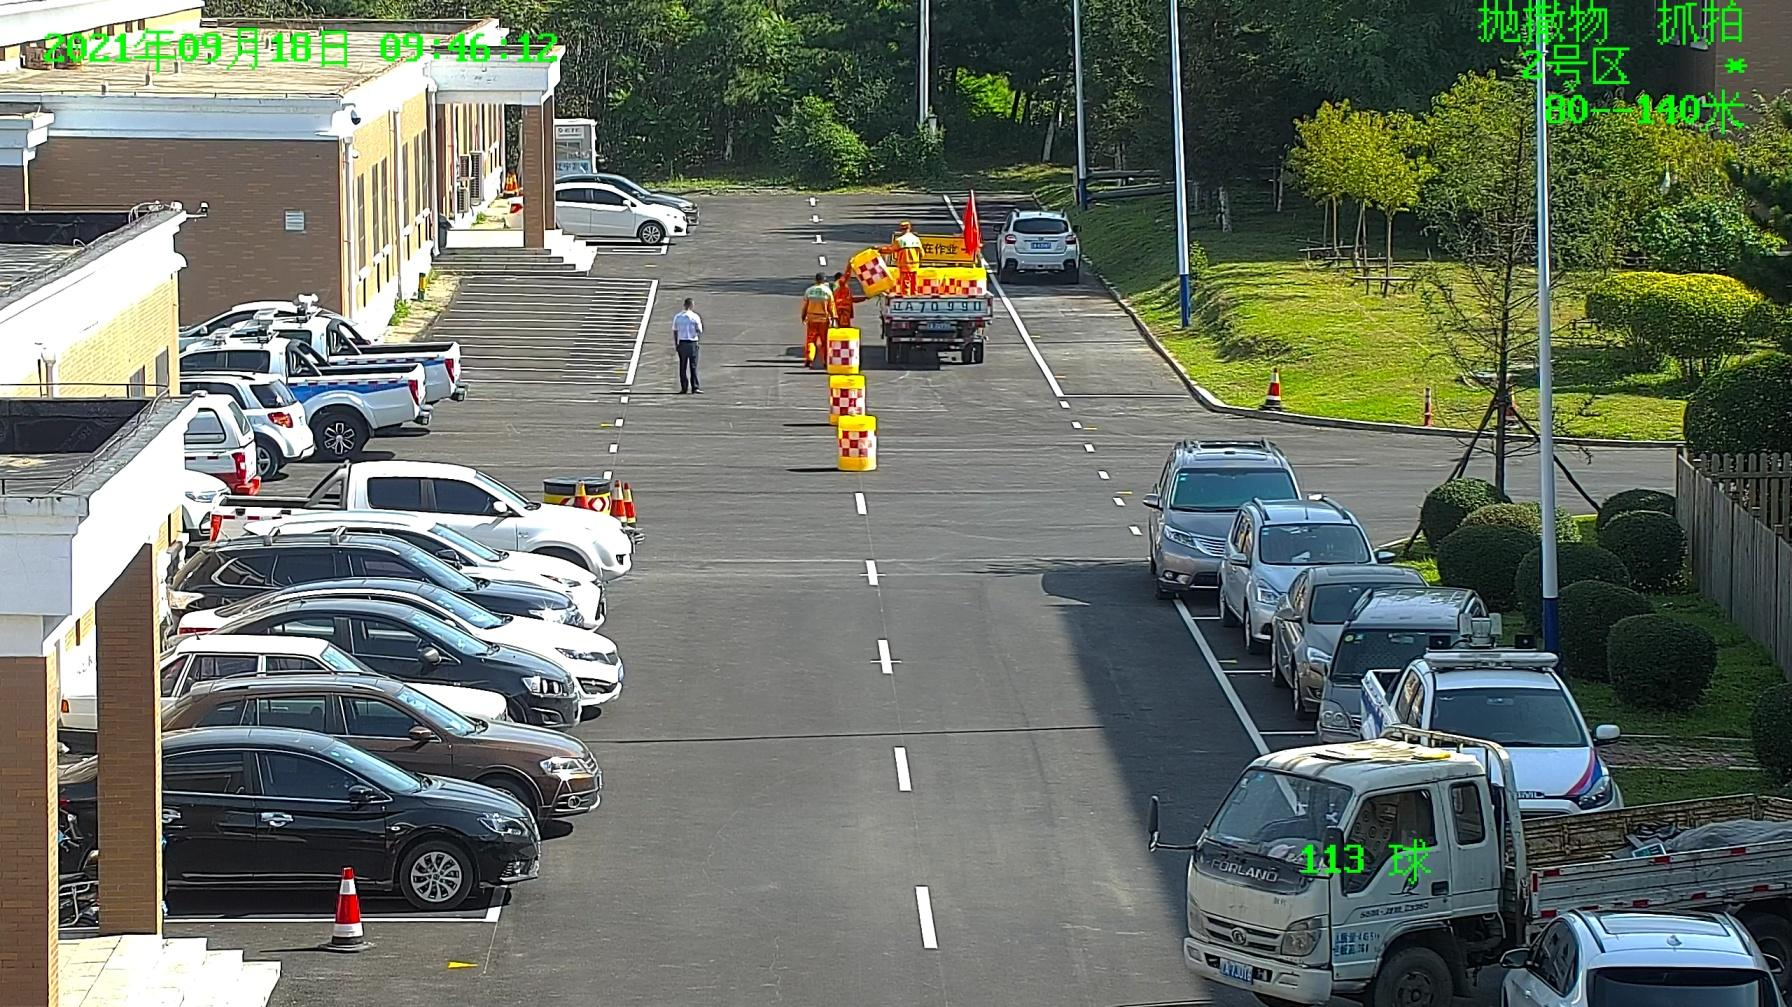cone_barrel: (847, 247, 896, 295), (833, 417, 874, 470), (827, 375, 864, 419), (825, 330, 857, 371), (917, 266, 948, 295), (955, 263, 987, 292)
